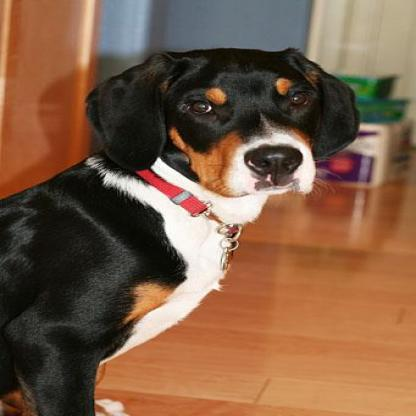Greater_Swiss_Mountain_dog: (0, 46, 357, 413)
